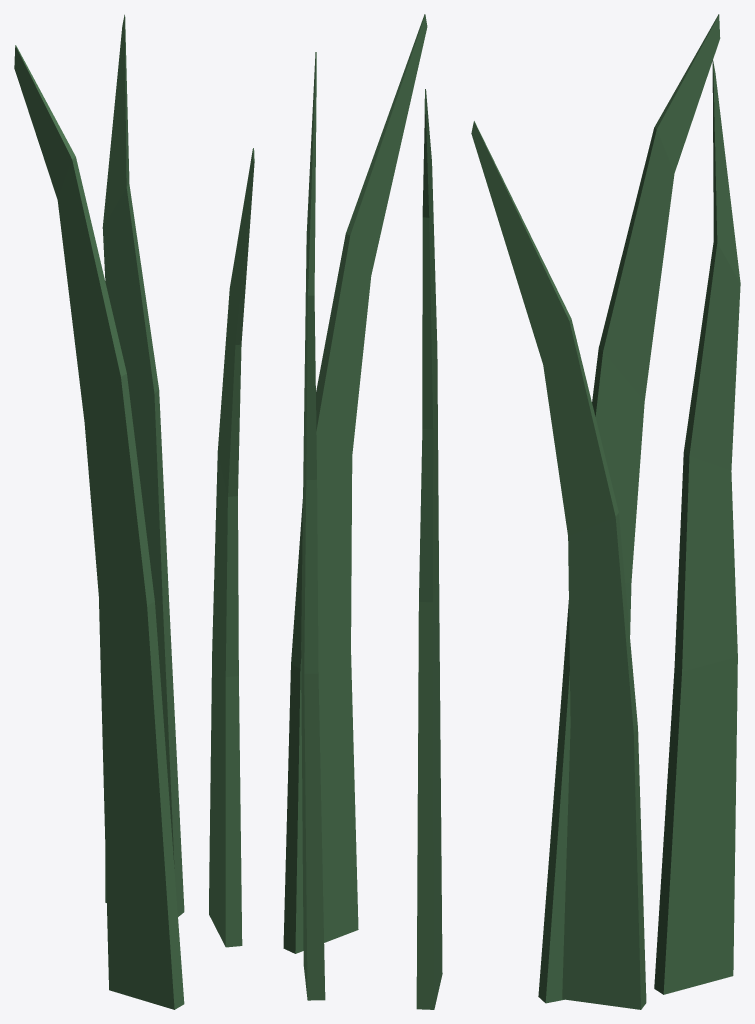
File: PlainsGrass(5).fbx
The picture shows the model from 3 angles, left to right: view 1: azimuth 30°, elevation 25°; view 2: azimuth 150°, elevation 25°; view 3: azimuth 270°, elevation 25°; orthographic projection. The views are drawn at different scales.
Visible parts, largest first — view 1: PlainsGrass(5); view 2: PlainsGrass(5); view 3: PlainsGrass(5).
Part boxes in pixels (left/top/right/bottom): PlainsGrass(5): left=14, top=14, right=254, bottom=1009; PlainsGrass(5): left=283, top=14, right=442, bottom=1009; PlainsGrass(5): left=471, top=14, right=740, bottom=1009.
Bounding box in the file's own units: 0.2755 × 1.41 × 0.3607.
